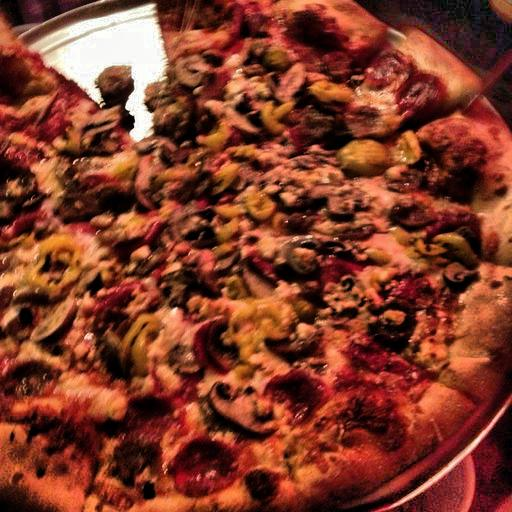pizza: (2, 8, 510, 512)
